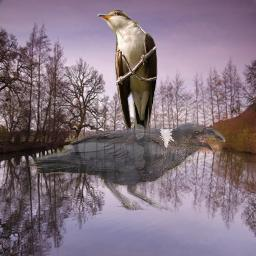Crow: (27, 120, 226, 212)
Cuckoo: (97, 10, 158, 174)
